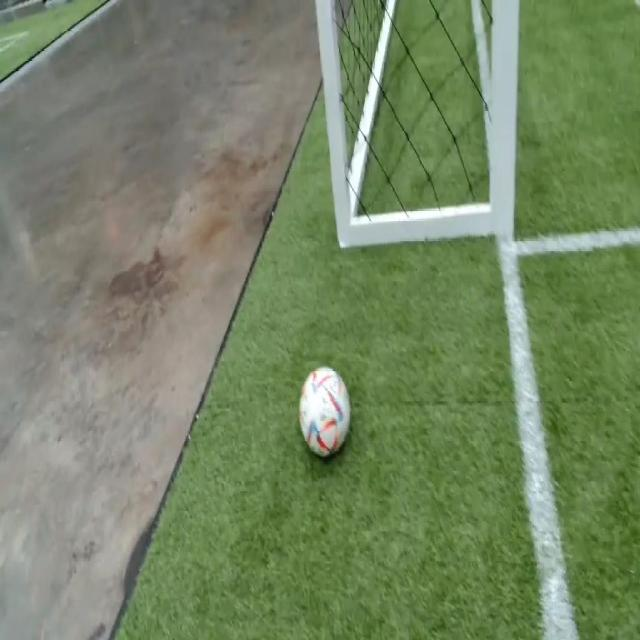ball: (299, 367, 351, 458)
goalpost: (475, 120, 532, 254)
